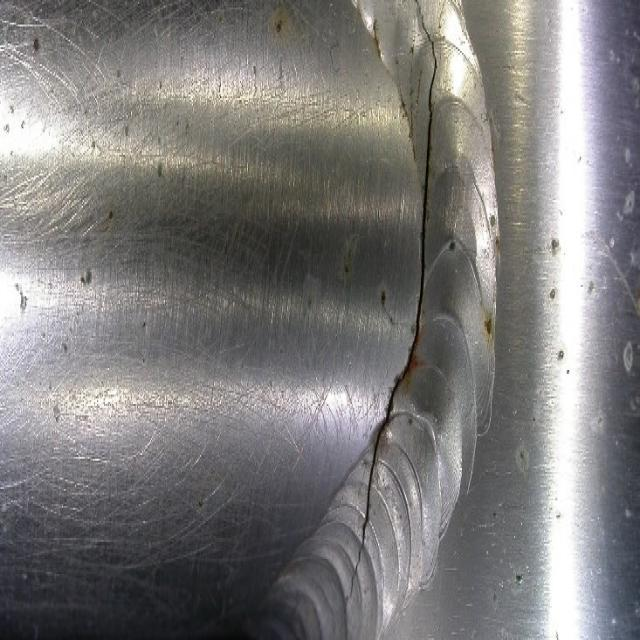Defect: (351, 13, 440, 582)
